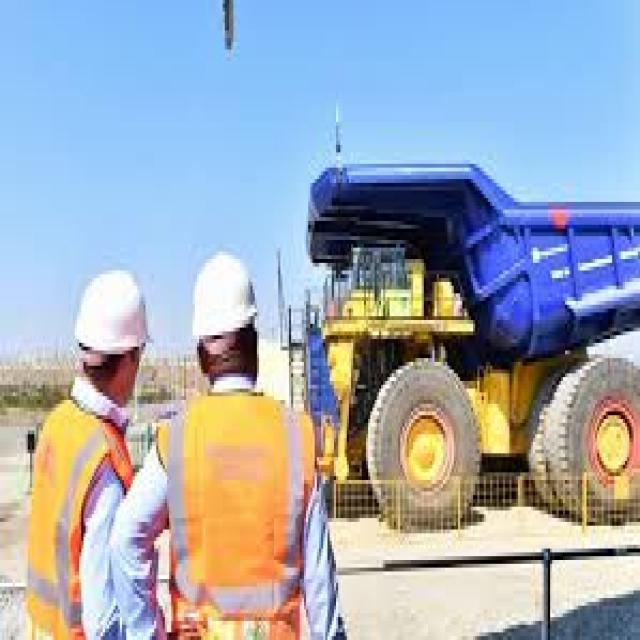dump_truck: (300, 95, 638, 587)
